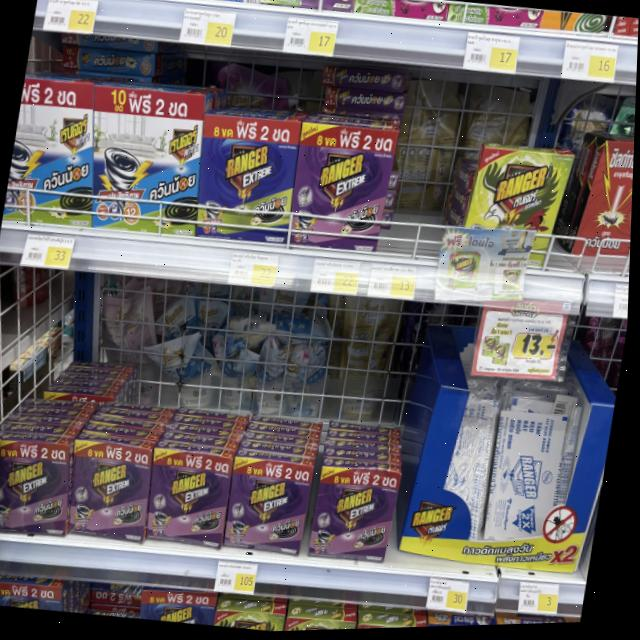empty_shelf: (377, 126, 484, 260)
